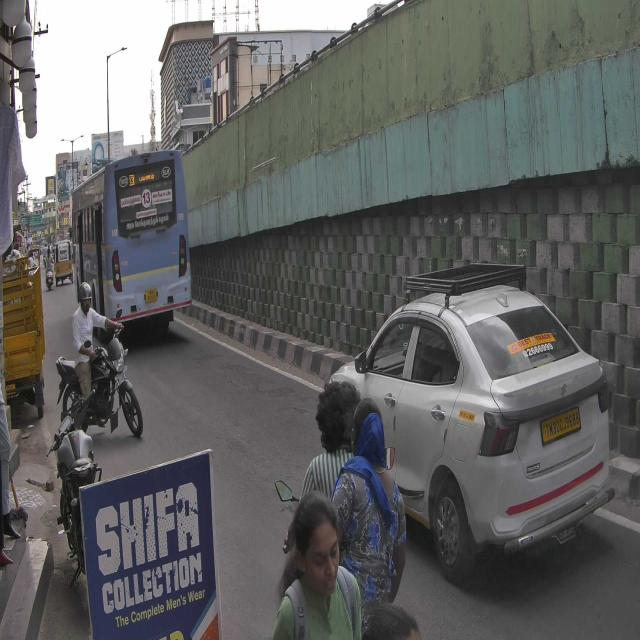single_rider: (56, 280, 146, 448)
